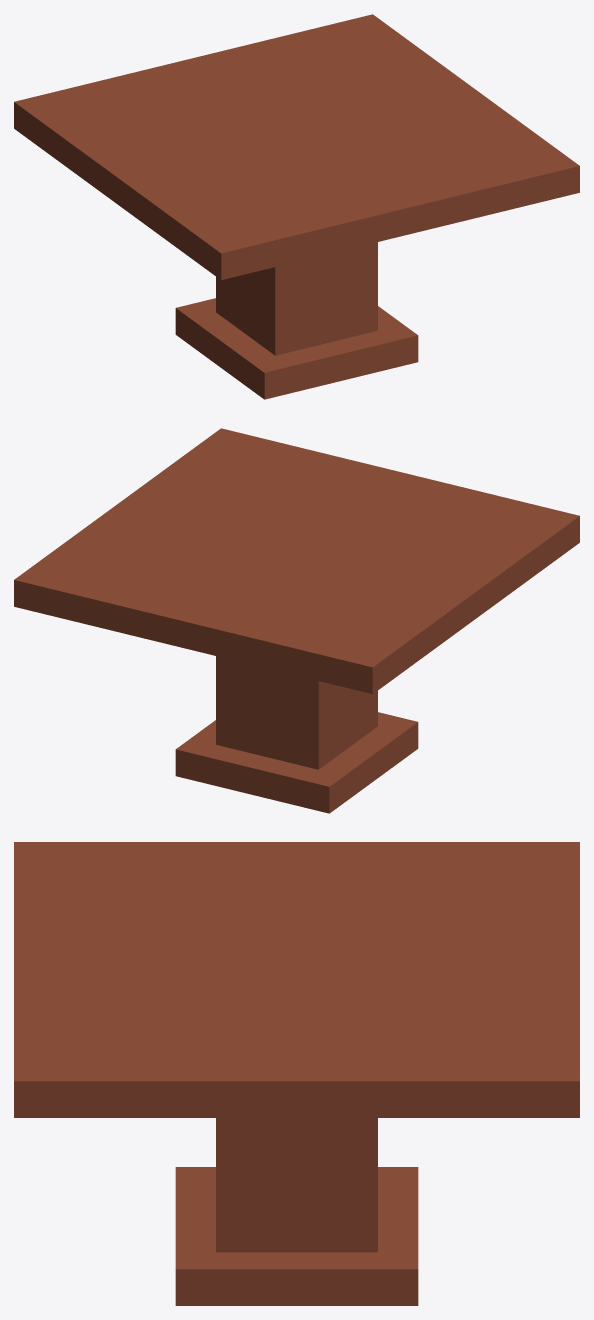
Rendered from dark-wood-table.obj.
3 renders of one model, top to bottom at view 1: azimuth 30°, elevation 25°; view 2: azimuth 150°, elevation 25°; view 3: azimuth 270°, elevation 25°, orthographic. The views are drawn at different scales.
Size of the model in its own units: 7 by 4 by 7.
Materials: 1 (1 with a texture image).
